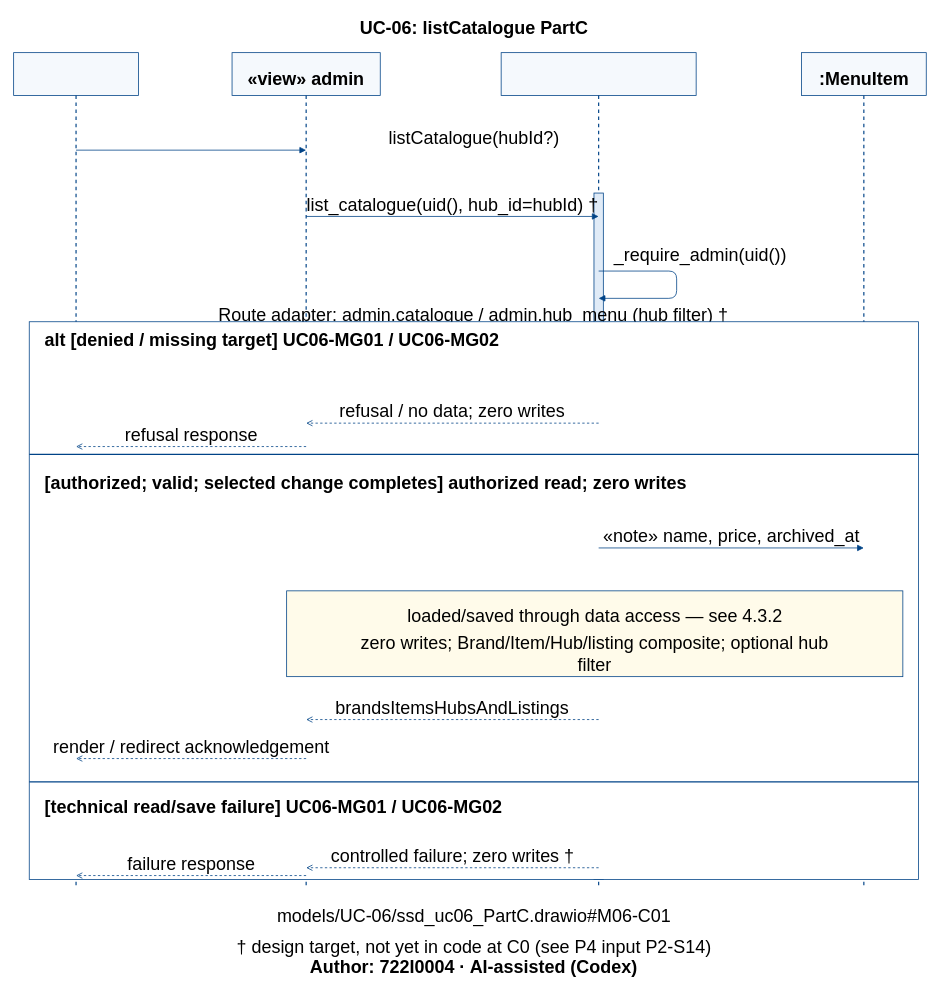
Some shapes in this 940 by 991 pixel diagram are drawn without their labels. Here are the shapes that lost their labels. From the top down, the box of each, then its label:
(13, 52, 138, 96): Admin
(500, 52, 696, 96): :MenuController
